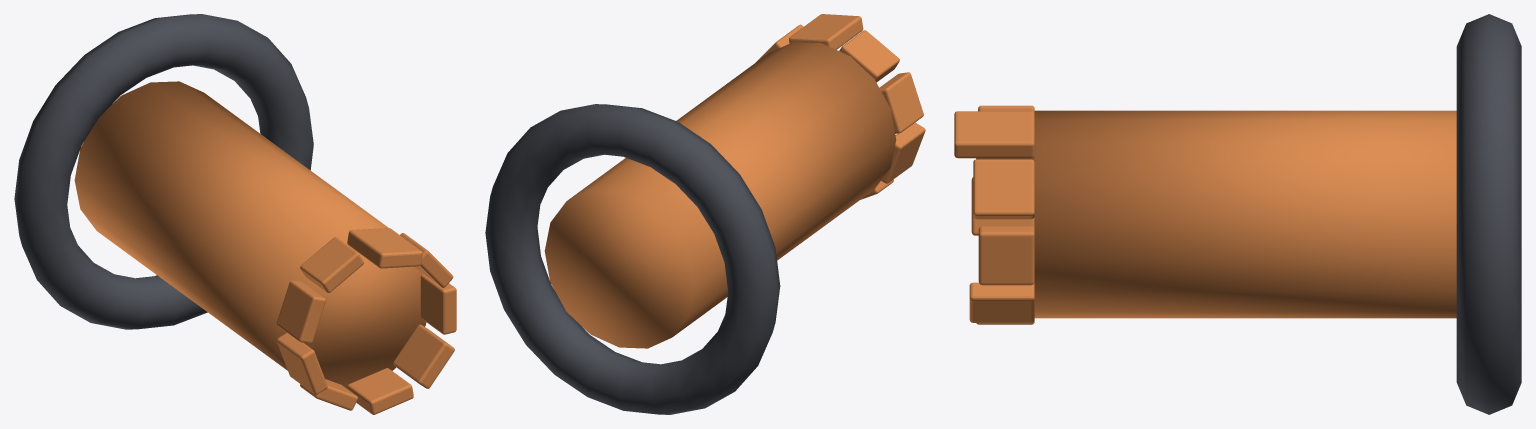
File: Wall_PipeStub.fbx
The picture shows the model from 3 angles, left to right: view 1: azimuth 30°, elevation 25°; view 2: azimuth 150°, elevation 25°; view 3: azimuth 270°, elevation 25°; orthographic projection. The views are drawn at different scales.
Parts seen in each view (by area): view 1: Wall_PipeStub; view 2: Wall_PipeStub; view 3: Wall_PipeStub.
Part boxes in pixels (x1=…): Wall_PipeStub: x1=14, y1=14, x2=456, y2=414; Wall_PipeStub: x1=485, y1=14, x2=925, y2=414; Wall_PipeStub: x1=954, y1=14, x2=1521, y2=414.
Size of the model in its own units: 0.62 by 0.62 by 0.8739.
